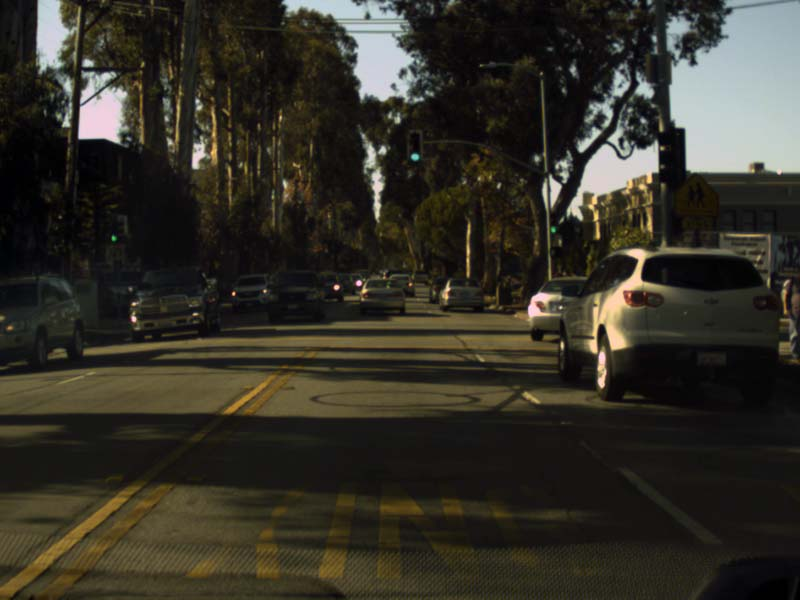Green: (409, 134, 419, 162), (110, 223, 118, 243), (550, 214, 557, 234)
